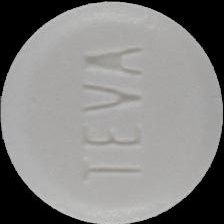64725-3925: (0, 0, 224, 224)
